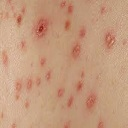Chickenpox: (13, 73, 50, 98), (103, 32, 124, 51), (33, 20, 54, 37), (11, 6, 25, 26), (71, 43, 86, 57), (86, 91, 98, 108)
